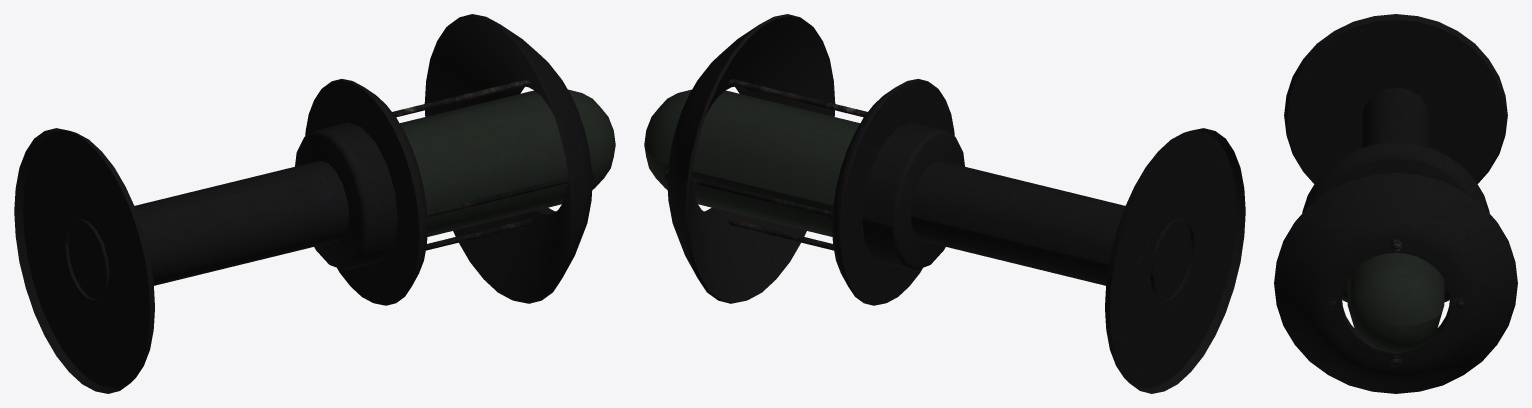
The model's file is cP_StreetLight_Small.dae.
The picture shows the model from 3 angles, left to right: view 1: azimuth 30°, elevation 25°; view 2: azimuth 150°, elevation 25°; view 3: azimuth 270°, elevation 25°; orthographic projection. The views are drawn at different scales.
Parts seen in each view (by area): view 1: cP_StreetLight_Small.001; view 2: cP_StreetLight_Small.001; view 3: cP_StreetLight_Small.001.
Boxes of the visible parts, x1=… form: cP_StreetLight_Small.001: x1=14, y1=14, x2=615, y2=393; cP_StreetLight_Small.001: x1=644, y1=14, x2=1245, y2=393; cP_StreetLight_Small.001: x1=1274, y1=14, x2=1517, y2=393.
Size of the model in its own units: 0.8958 by 0.4376 by 0.4376.
